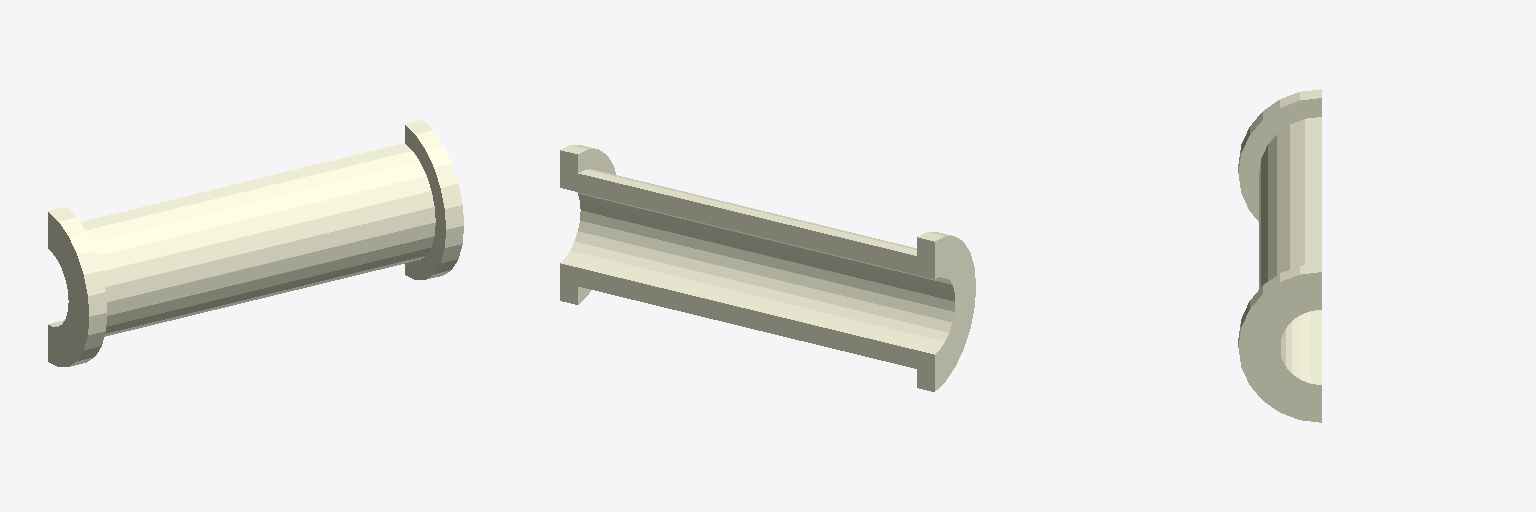
The model's file is section_015.obj.
The picture shows the model from 3 angles: view 1: azimuth 30°, elevation 25°; view 2: azimuth 150°, elevation 25°; view 3: azimuth 270°, elevation 25°; orthographic projection.
Bounding box in the file's own units: 20.82 × 8 × 4.